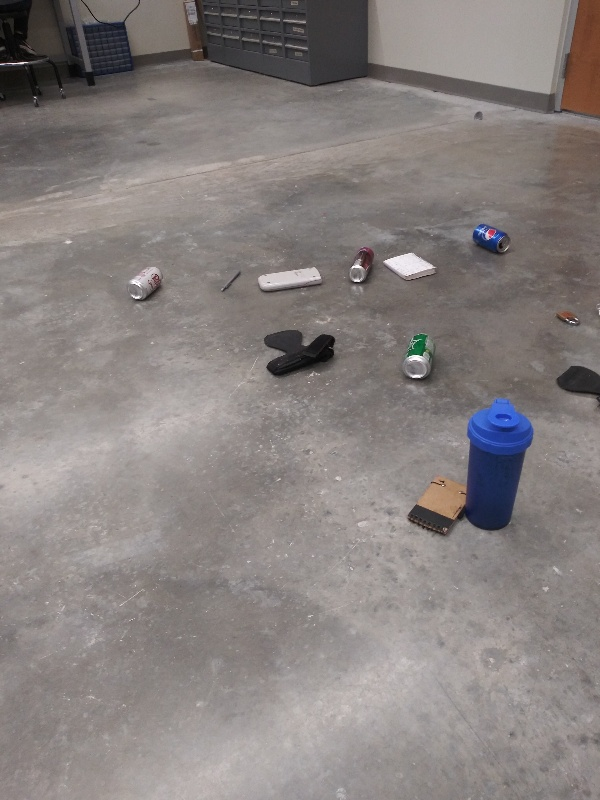can: (400, 331, 436, 382), (126, 263, 168, 306), (347, 244, 377, 285), (471, 224, 512, 254)
